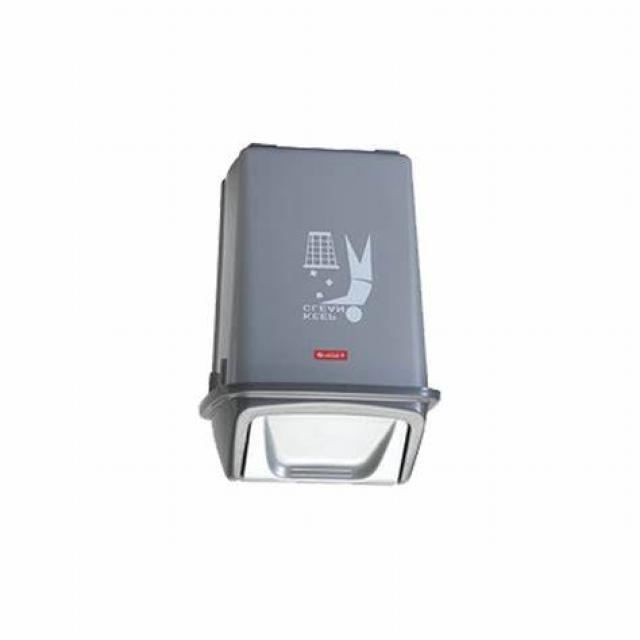garbage container: (201, 125, 466, 508)
